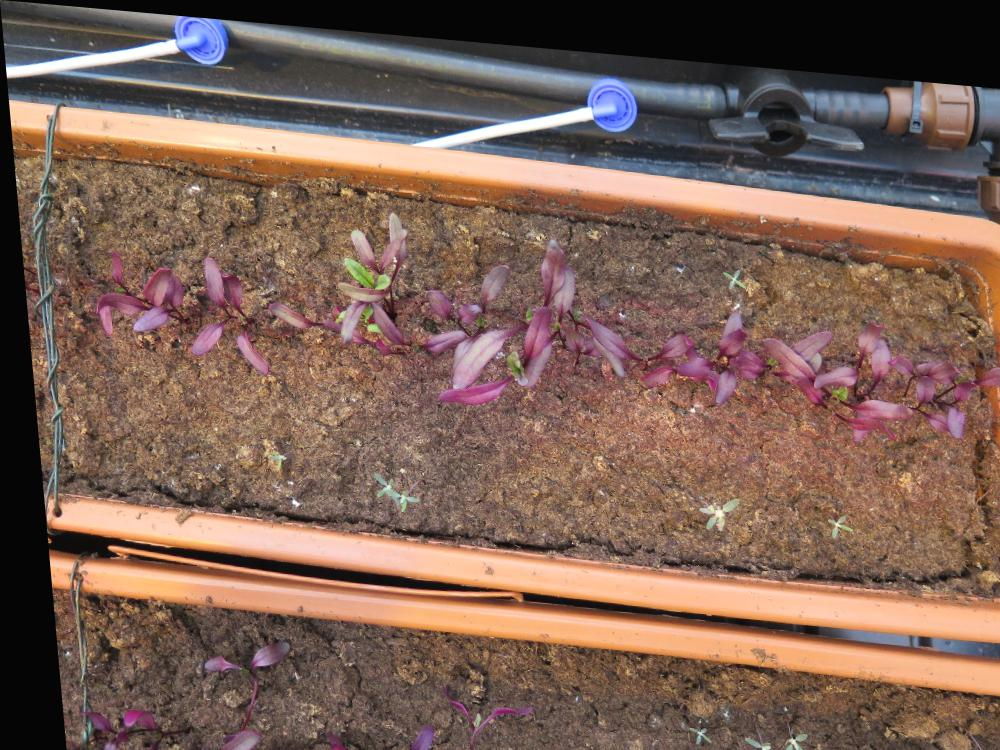weed: (730, 721, 770, 749), (767, 715, 796, 747), (817, 497, 845, 525), (715, 252, 742, 278), (256, 440, 281, 468), (959, 733, 999, 749), (675, 712, 698, 734)
